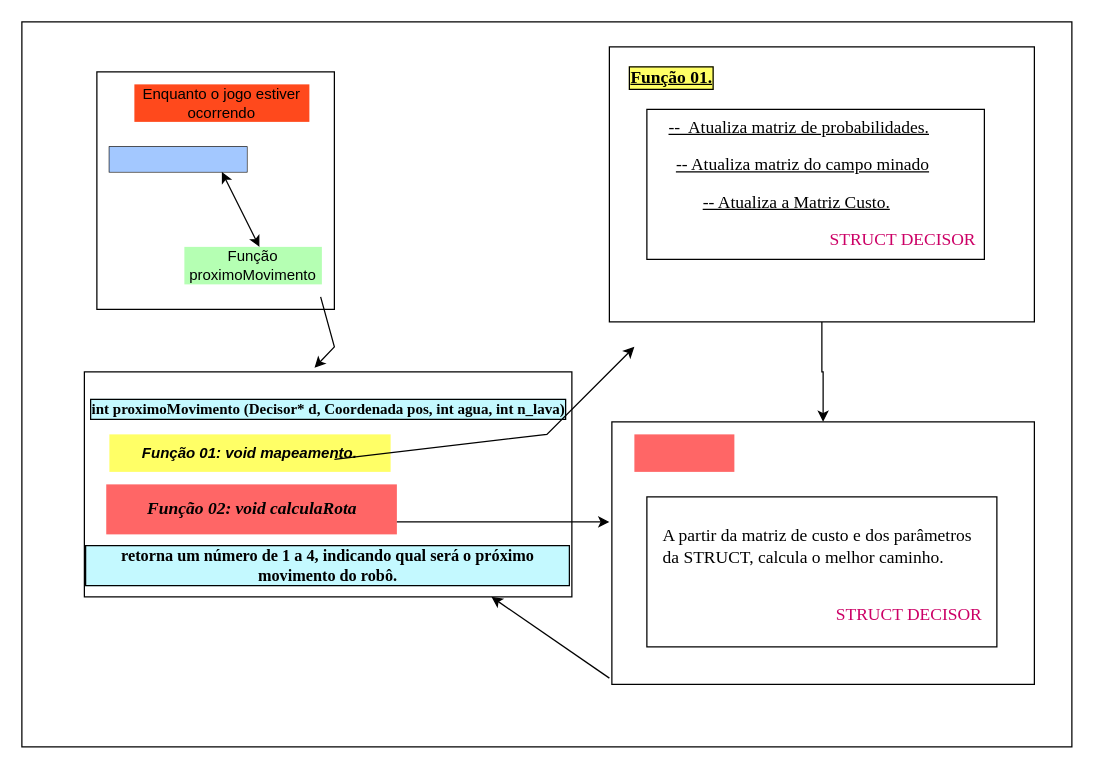
The diagram is 1094 pixels wide and 769 high, and some of its shapes have lost their labels. Here are the shapes that lost their labels. From the top down, the centre of each, then its label:
At point (177, 158): "main-automatica.c".
At point (684, 452): "Função 02".
